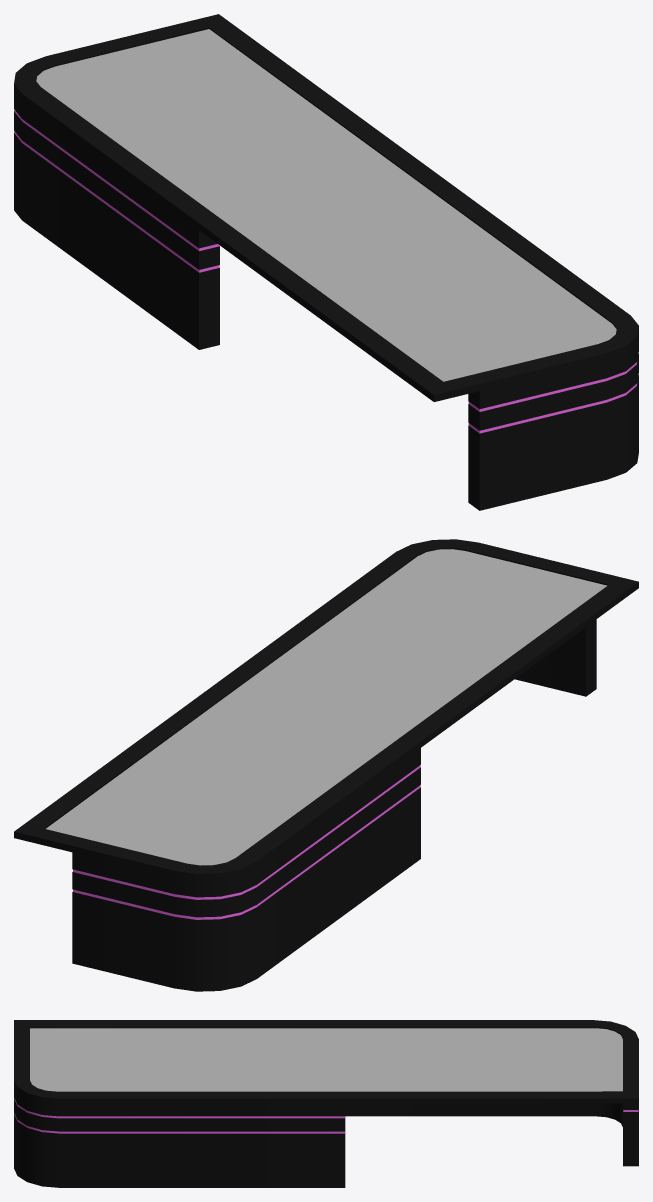
The model's file is W_O_maze_Desk_001_L0.fbx.
3 views of the same model, one above another, from view 1: azimuth 30°, elevation 25°; view 2: azimuth 150°, elevation 25°; view 3: azimuth 270°, elevation 25° (orthographic). The views are drawn at different scales.
Visible parts, largest first — view 1: W_O_maze_Desk_001_L0; view 2: W_O_maze_Desk_001_L0; view 3: W_O_maze_Desk_001_L0.
Boxes of the visible parts, <box> form: W_O_maze_Desk_001_L0: <box>14,14,638,510</box>; W_O_maze_Desk_001_L0: <box>14,539,638,991</box>; W_O_maze_Desk_001_L0: <box>14,1020,638,1187</box>.
Bounding box in the file's own units: 0.9463 × 3.18 × 0.5.
